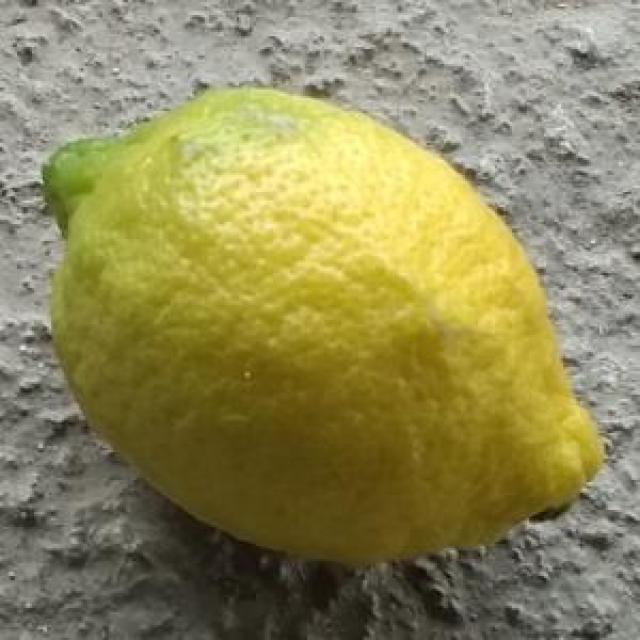lemon: (36, 88, 605, 572)
